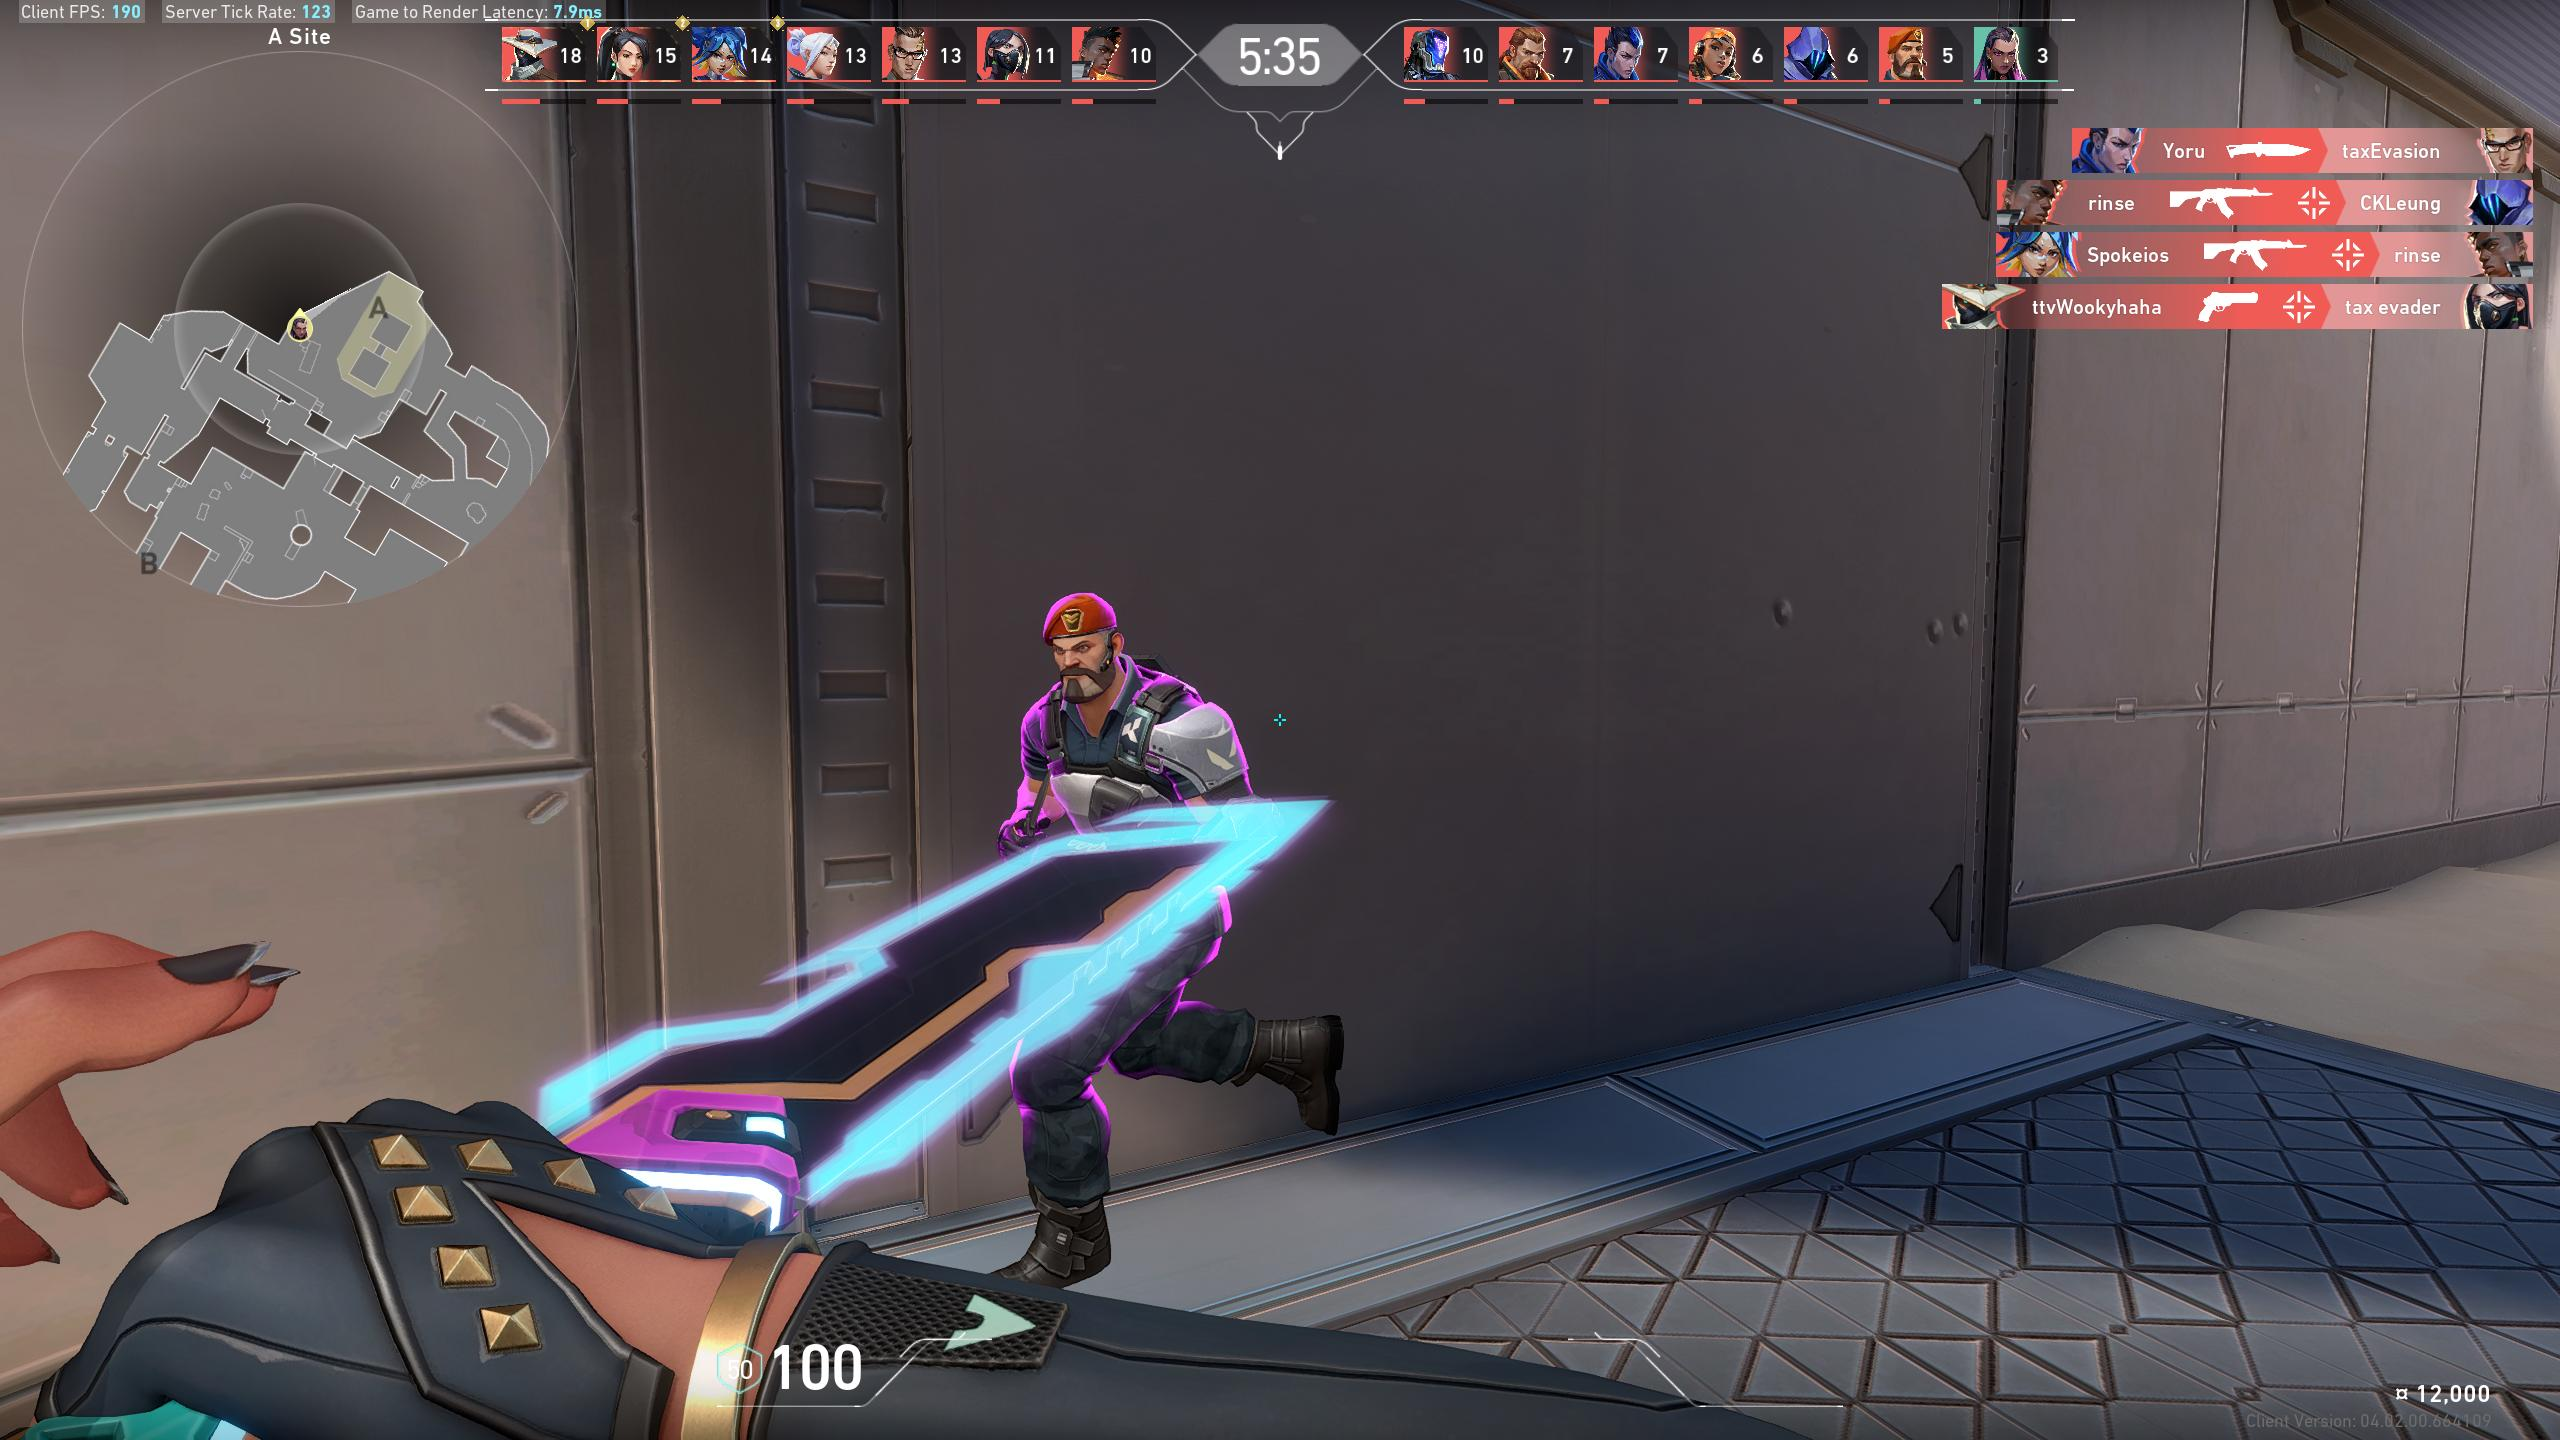enemyBody: (1078, 719, 1178, 847)
enemyHead: (1060, 619, 1104, 684)
